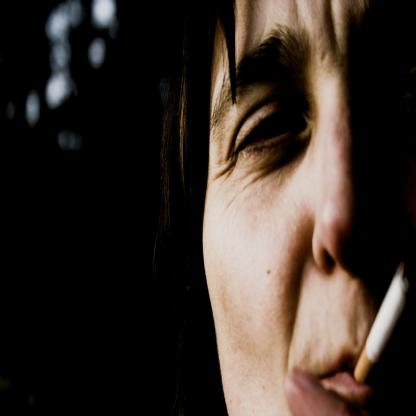smoking: (351, 268, 411, 388)
